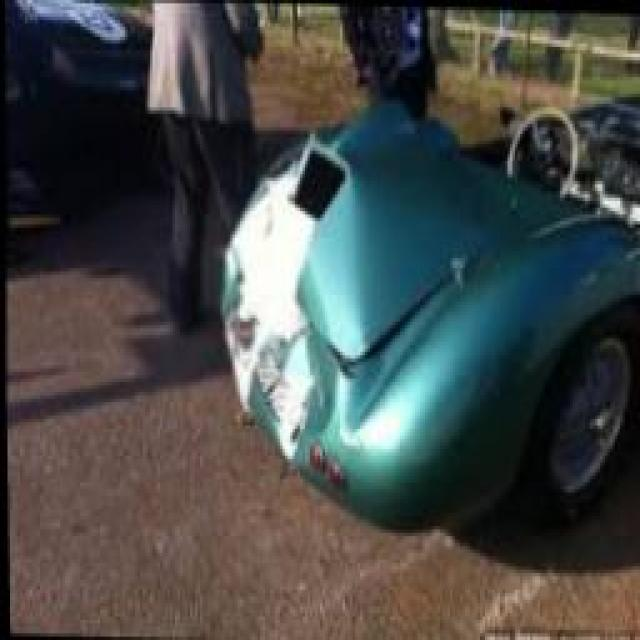Bumper: (218, 249, 378, 526)
Dickey: (219, 105, 600, 367)
